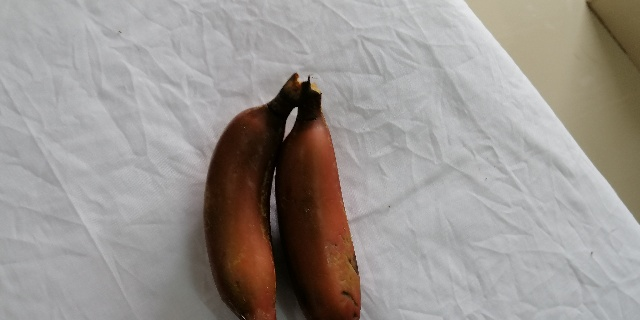banana_red: (203, 82, 291, 320), (275, 93, 359, 320)
